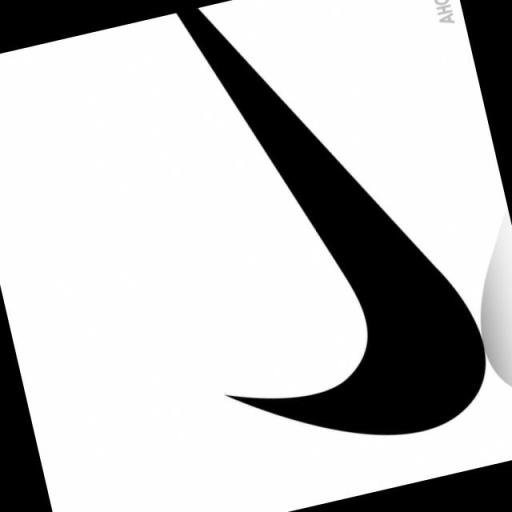Nike: (154, 0, 500, 466)
